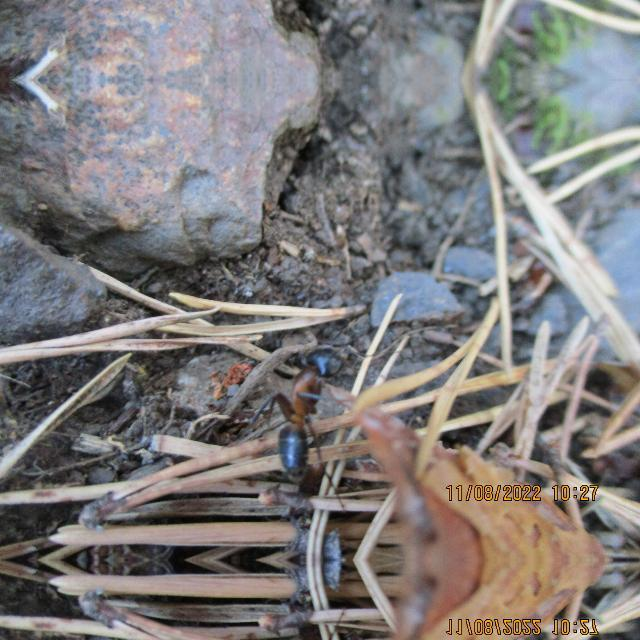Camponotus: (240, 331, 366, 472), (2, 41, 76, 80), (2, 80, 76, 118)
